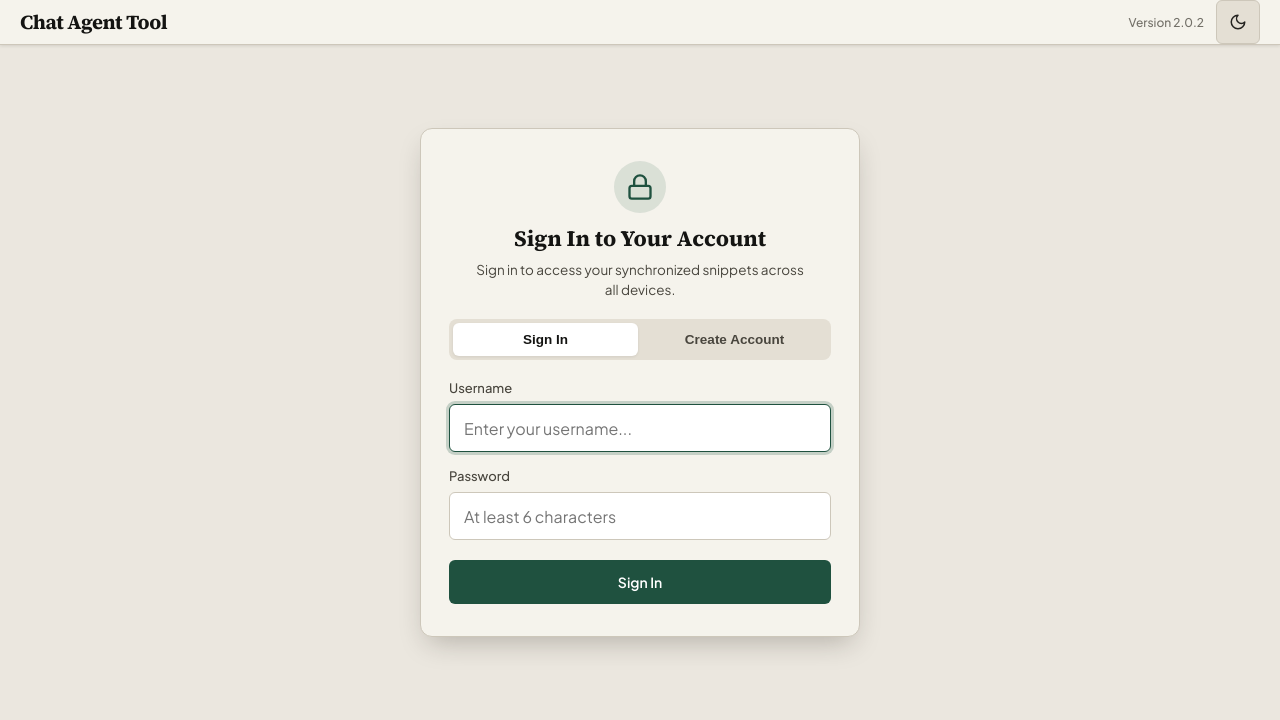
Chat Agent Tool - Integration Tests › supports login from auth gate, displays user badge, and loads cloud data
Type "cody" into the field labelled "Username" at (640, 428), box left=449, top=404, right=831, bottom=452
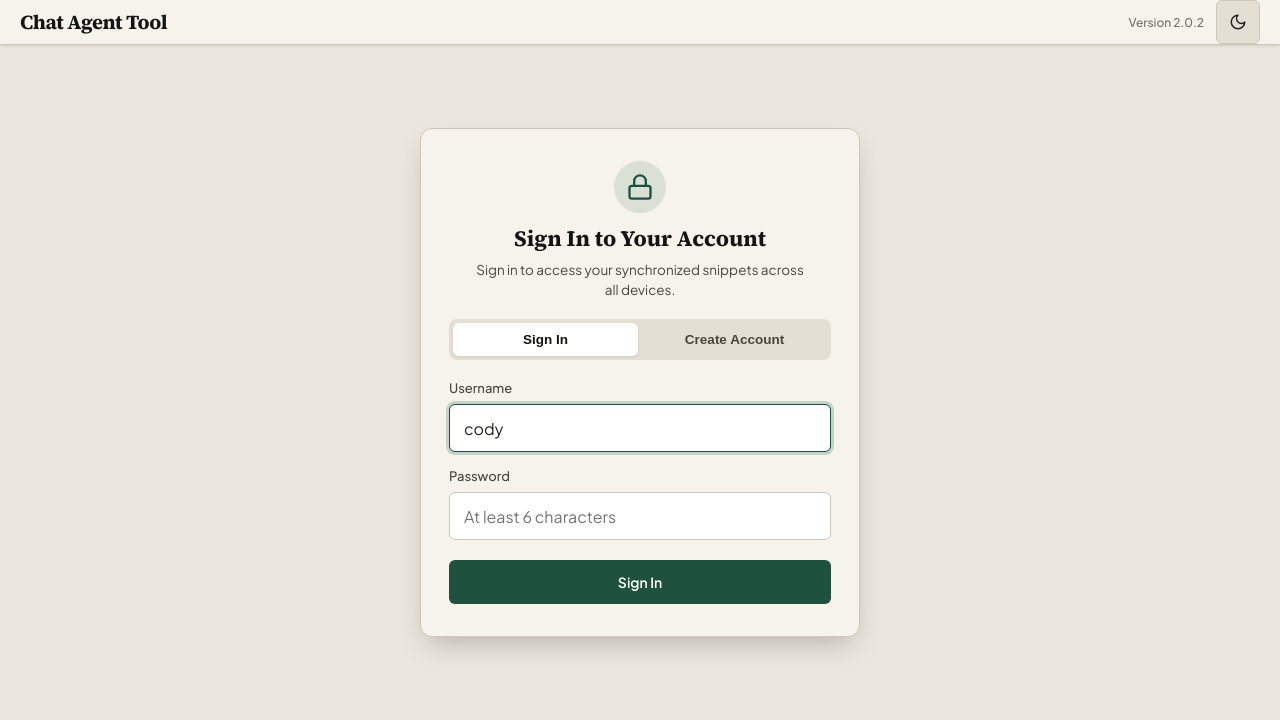
Type "password123" into the password field labelled "Password" at (640, 516), box left=449, top=492, right=831, bottom=540
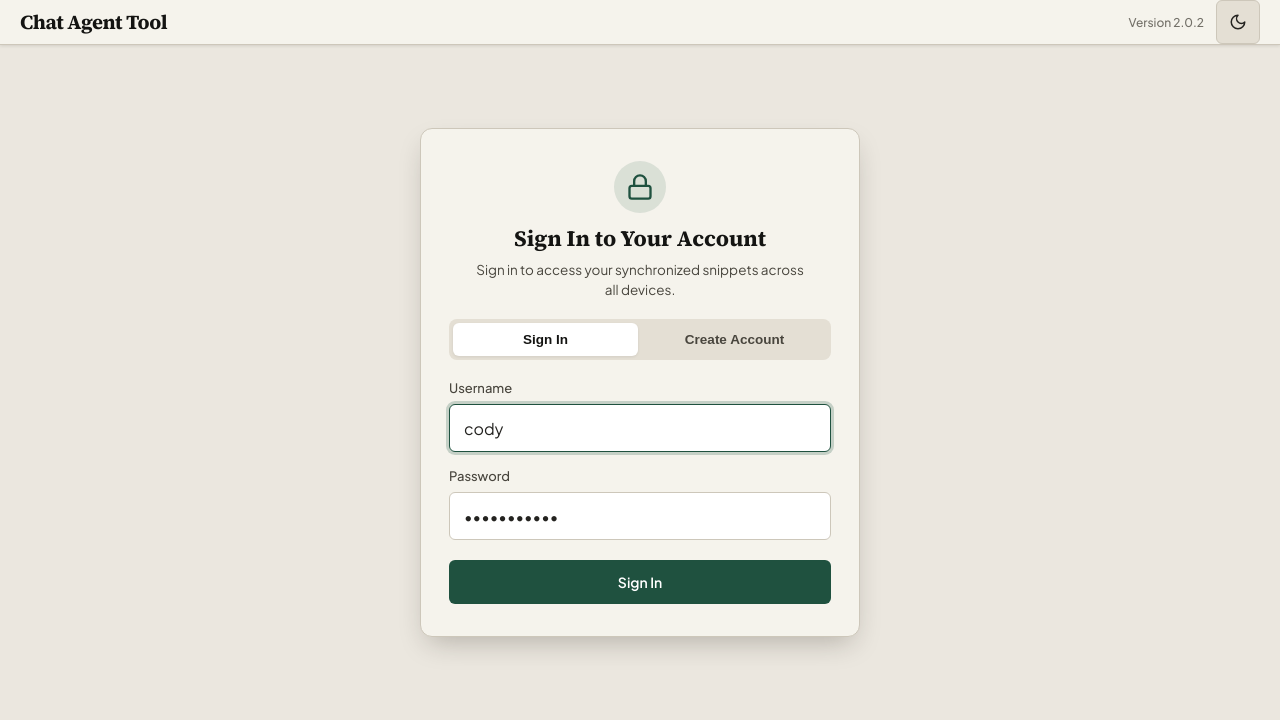
Submit the form labelled "Username", box left=449, top=380, right=831, bottom=604
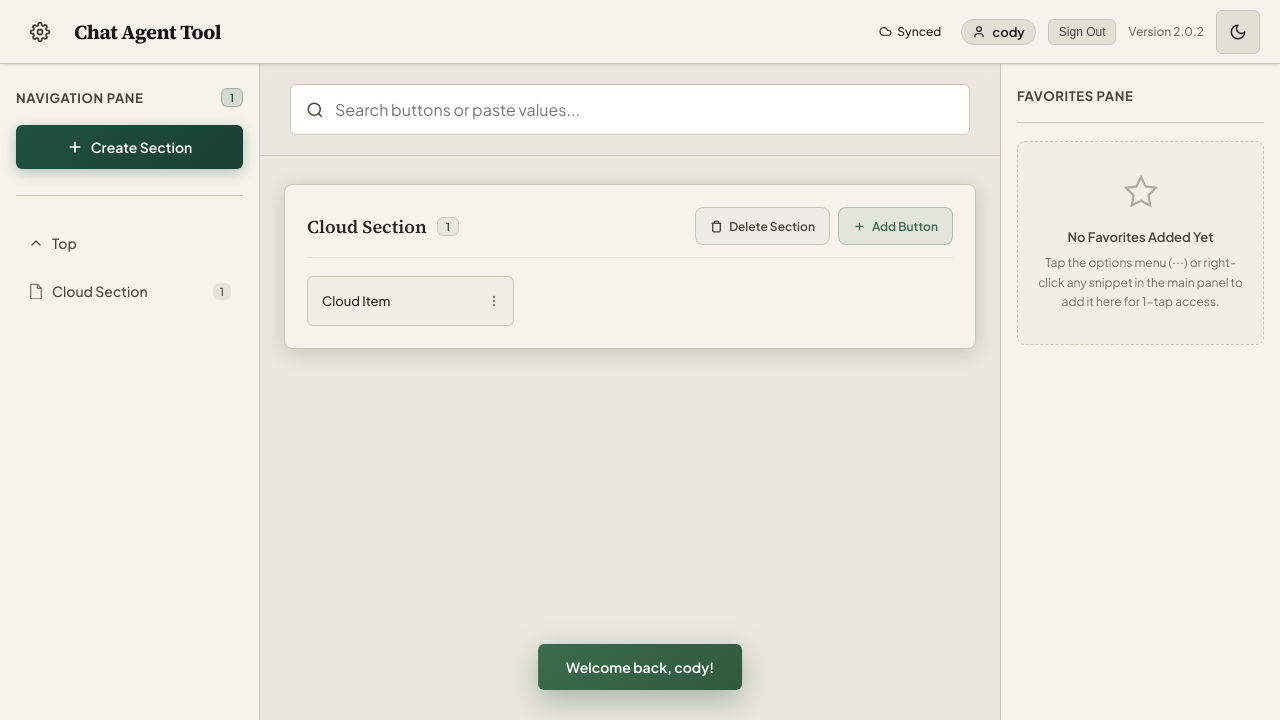
Expected: the text "cody" is shown, left=992, top=24, right=1025, bottom=40
Expected: the button "Sign Out" is shown, left=1048, top=18, right=1116, bottom=44
Expected: the button "Cloud Item" is shown, left=308, top=277, right=475, bottom=325
